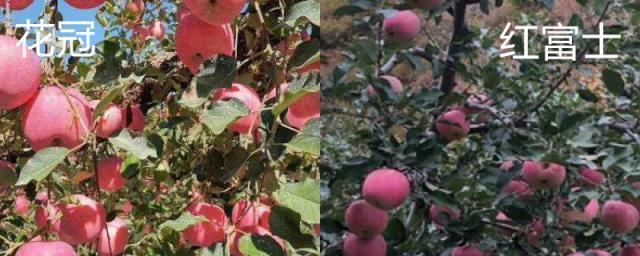apple: (21, 85, 89, 149), (174, 17, 237, 73), (362, 165, 412, 210), (519, 149, 567, 189), (341, 200, 391, 238), (381, 9, 424, 43), (183, 2, 249, 24), (599, 197, 639, 233), (436, 110, 471, 141)
